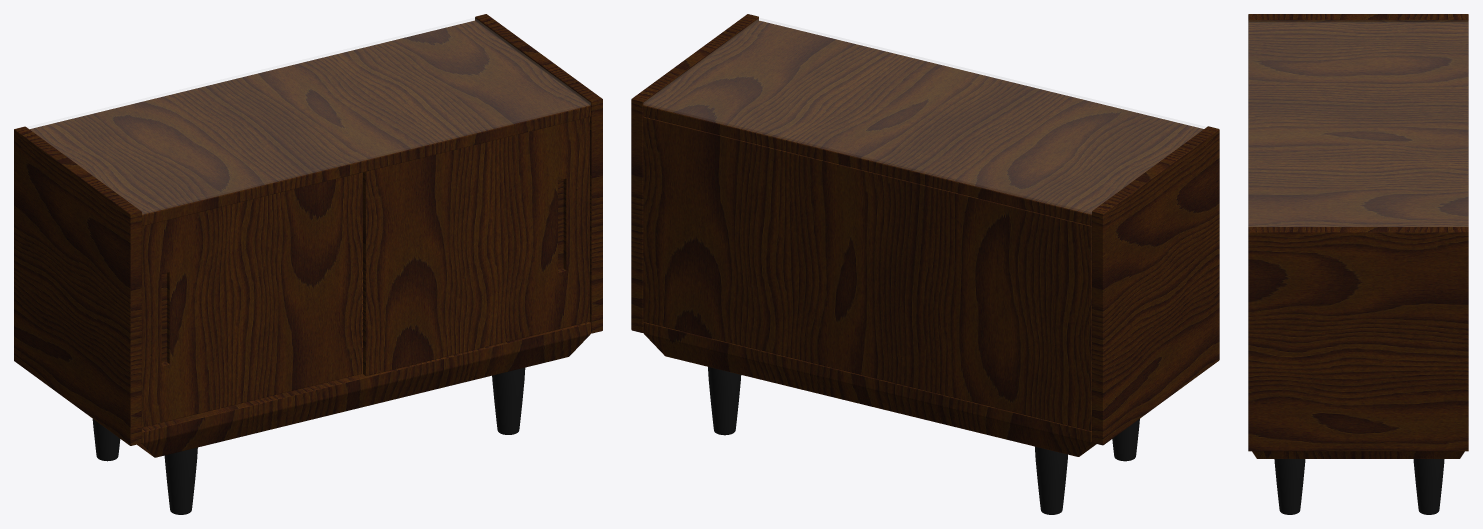
Rendered from Kaffee-Regal-AR.glb.
3 renders of one model, left to right at view 1: azimuth 30°, elevation 25°; view 2: azimuth 150°, elevation 25°; view 3: azimuth 270°, elevation 25°, orthographic. The views are drawn at different scales.
Parts seen in each view (by area): view 1: Oben Platte, Glas Platte, Rechte Tür, Linke Tür, Linke Wand, Unteres Brett, Rechte Wand, Fuß, Fuß.001, Fuß.002; view 2: Platte Hinten, Oben Platte, Glas Platte, Linke Wand, Unteres Brett, Rechte Wand, Fuß.003, Fuß.002, Fuß; view 3: Rechte Wand, Oben Platte, Glas Platte, Linke Wand, Unteres Brett, Fuß.001, Fuß.003.
Boxes of the visible parts, <box> form: Oben Platte: <box>29,20,590,225</box>; Glas Platte: <box>27,18,590,213</box>; Rechte Tür: <box>363,117,589,375</box>; Linke Tür: <box>142,172,361,427</box>; Linke Wand: <box>14,126,141,445</box>; Unteres Brett: <box>137,269,590,457</box>; Rechte Wand: <box>475,14,602,333</box>; Fuß: <box>164,447,197,514</box>; Fuß.001: <box>492,367,525,434</box>; Fuß.002: <box>92,419,120,461</box>; Platte Hinten: <box>643,117,1091,430</box>; Oben Platte: <box>643,20,1203,225</box>; Glas Platte: <box>644,18,1205,213</box>; Linke Wand: <box>1092,126,1219,445</box>; Unteres Brett: <box>643,322,1096,456</box>; Rechte Wand: <box>631,14,758,332</box>; Fuß.003: <box>708,367,741,435</box>; Fuß.002: <box>1035,446,1067,514</box>; Fuß: <box>1112,419,1139,461</box>; Rechte Wand: <box>1248,227,1468,451</box>; Oben Platte: <box>1248,23,1468,226</box>; Glas Platte: <box>1249,22,1467,226</box>; Linke Wand: <box>1248,14,1468,22</box>; Unteres Brett: <box>1252,451,1464,458</box>; Fuß.001: <box>1274,459,1305,514</box>; Fuß.003: <box>1413,459,1444,514</box>.
Bounding box in the file's own units: 1.3 × 0.8675 × 0.555.
Materials: 3 (1 with a texture image).
